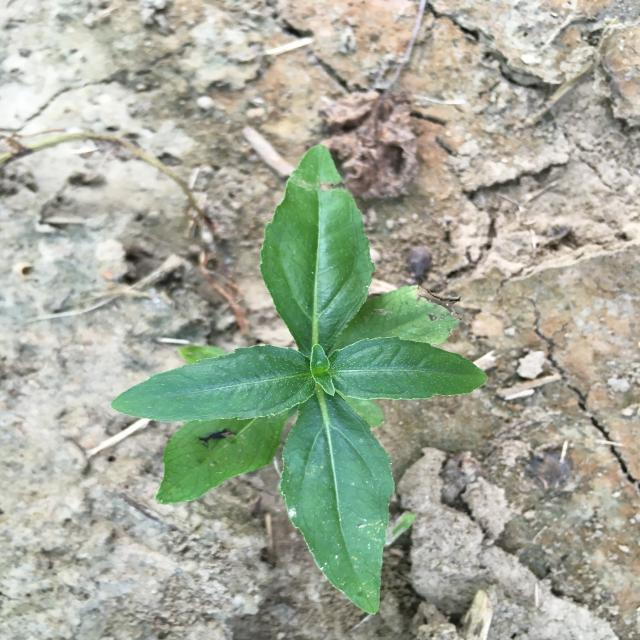Eclipta: (111, 144, 488, 615)
